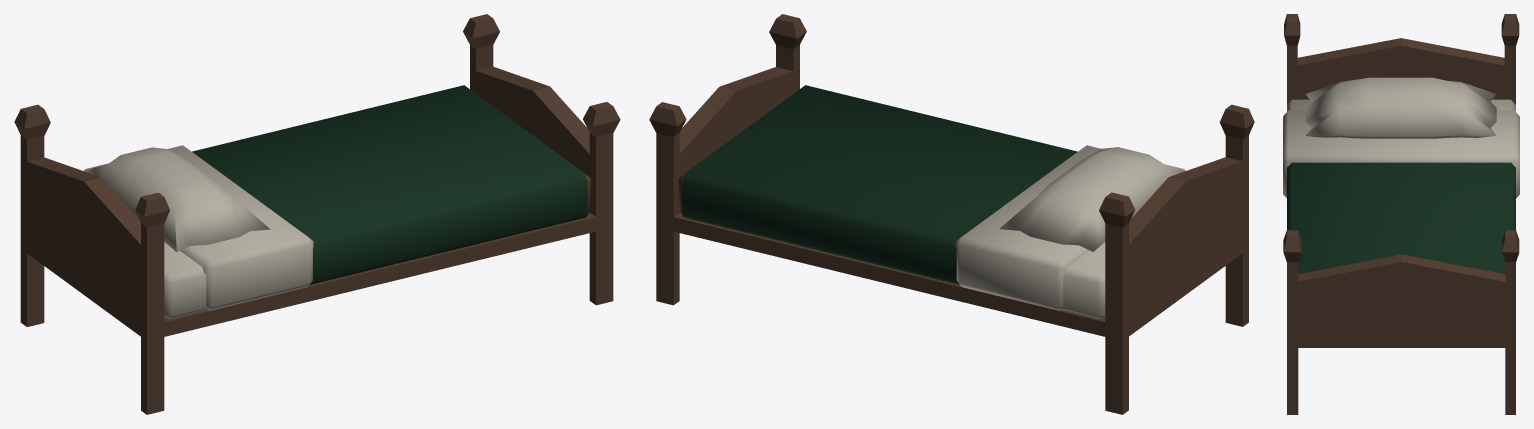
Rendered from S_Bed_01.fbx.
3 views of the same model, side by side, from view 1: azimuth 30°, elevation 25°; view 2: azimuth 150°, elevation 25°; view 3: azimuth 270°, elevation 25° (orthographic). The views are drawn at different scales.
Visible parts, largest first — view 1: S_Bed_01; view 2: S_Bed_01; view 3: S_Bed_01.
Part boxes in pixels (x1,y1,x2,y2): S_Bed_01: [14, 14, 620, 414]; S_Bed_01: [649, 14, 1254, 414]; S_Bed_01: [1283, 14, 1519, 414].
Bounding box in the file's own units: 279 × 120 × 132.
